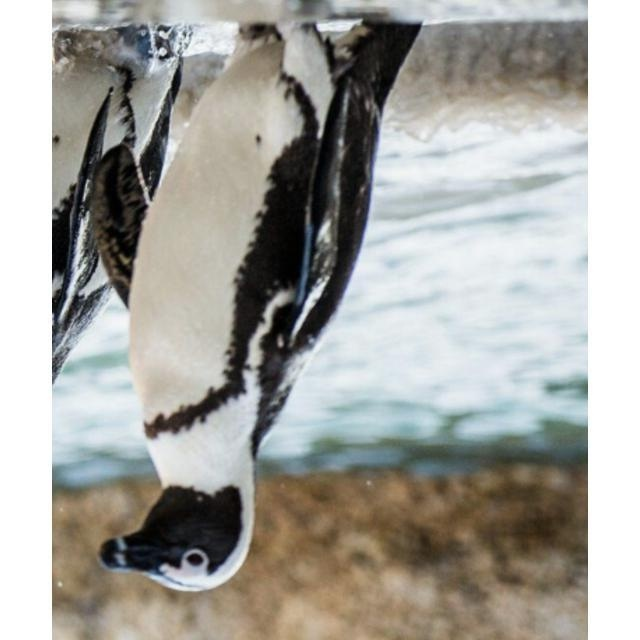penguin: (90, 18, 425, 593)
